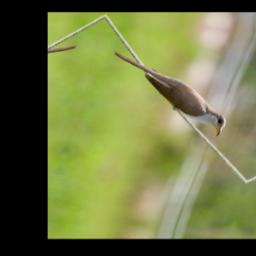Cuckoo: (91, 50, 242, 139)
